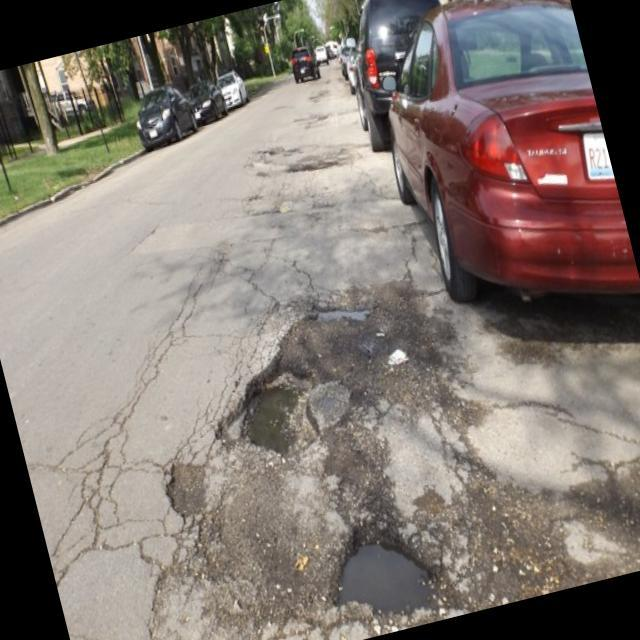Pothole: (152, 429, 268, 605), (319, 498, 451, 640), (301, 274, 419, 398), (227, 355, 327, 470)
